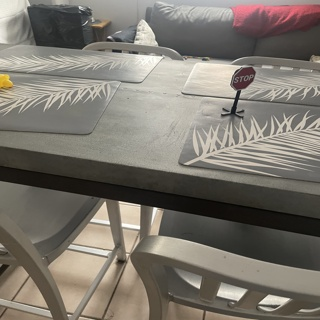sign_stop: (230, 67, 257, 91)
